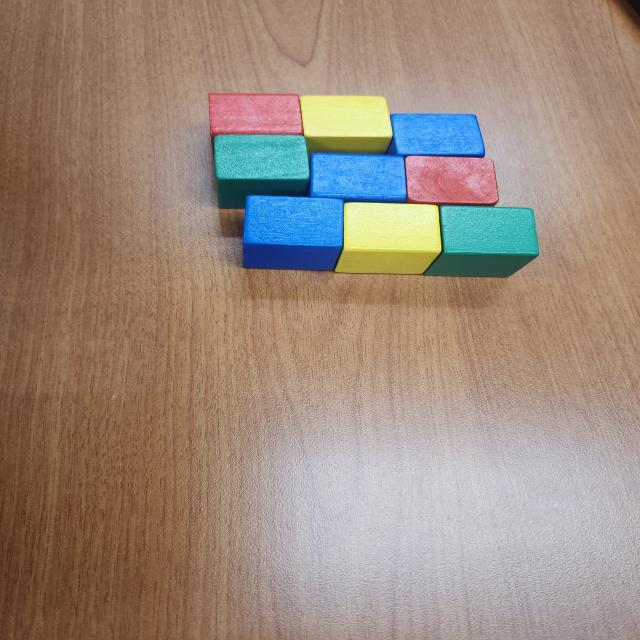blue: (241, 194, 345, 271), (306, 152, 406, 204), (384, 114, 486, 158)
green: (420, 206, 540, 280), (213, 134, 310, 209)
red: (208, 94, 306, 158), (402, 156, 500, 206)
yellow: (333, 202, 443, 274), (298, 95, 393, 155)
